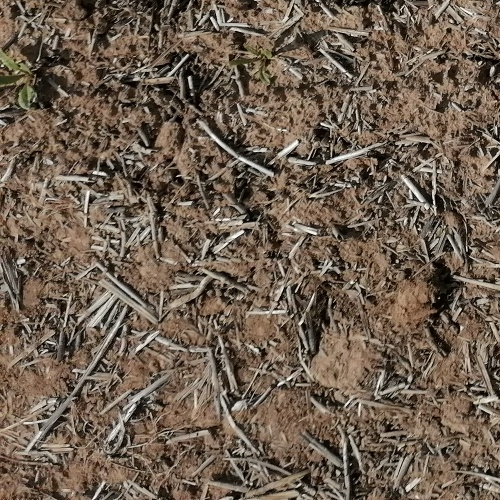beet: (0, 49, 39, 111), (231, 42, 276, 85)
